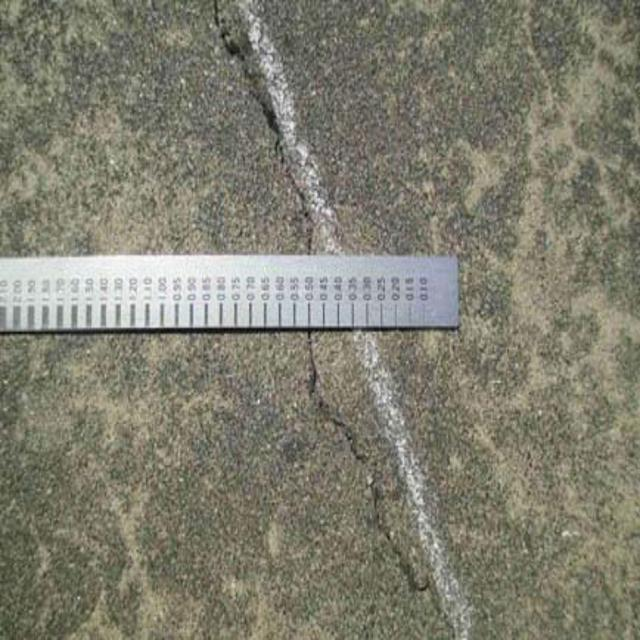crack: (202, 6, 452, 631)
